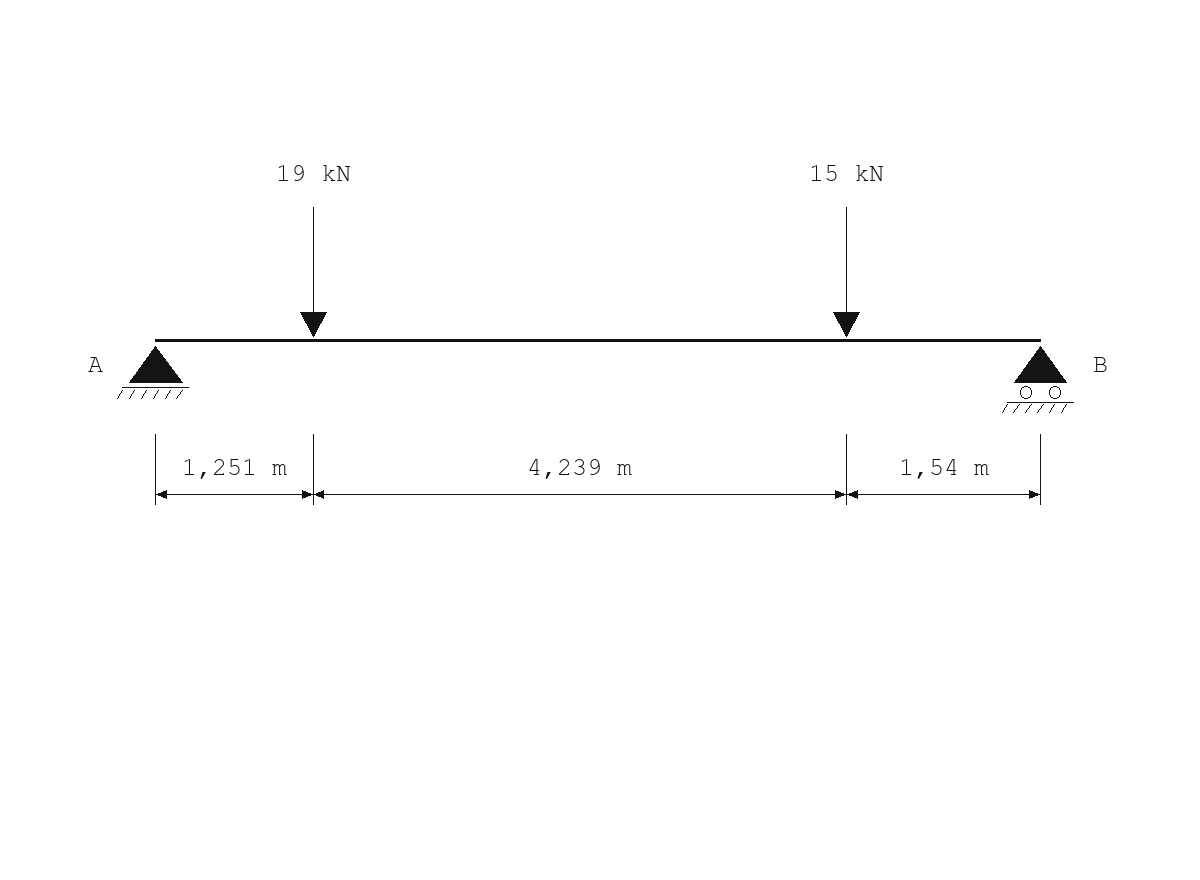pin_support: (117, 346, 189, 399)
point_load: (300, 207, 327, 337), (833, 207, 860, 337)
roller_support: (1002, 346, 1074, 413)
